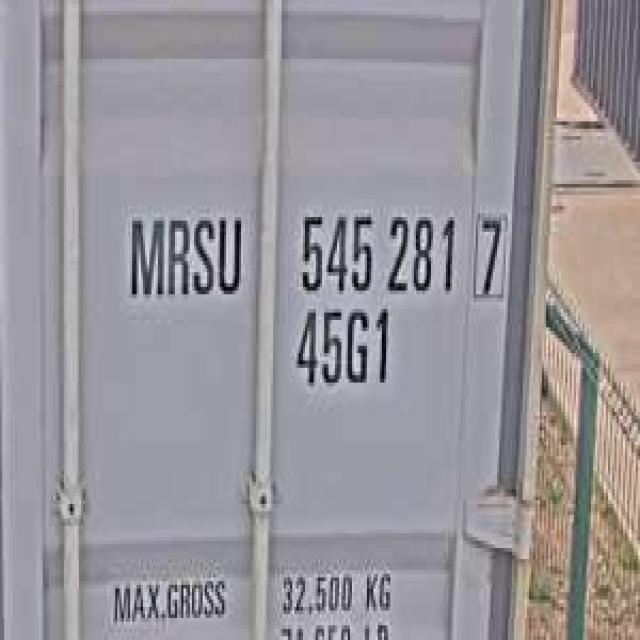dv: (467, 199, 512, 309)
owner: (122, 199, 245, 305)
serial: (292, 198, 459, 302)
size: (290, 302, 395, 394)
